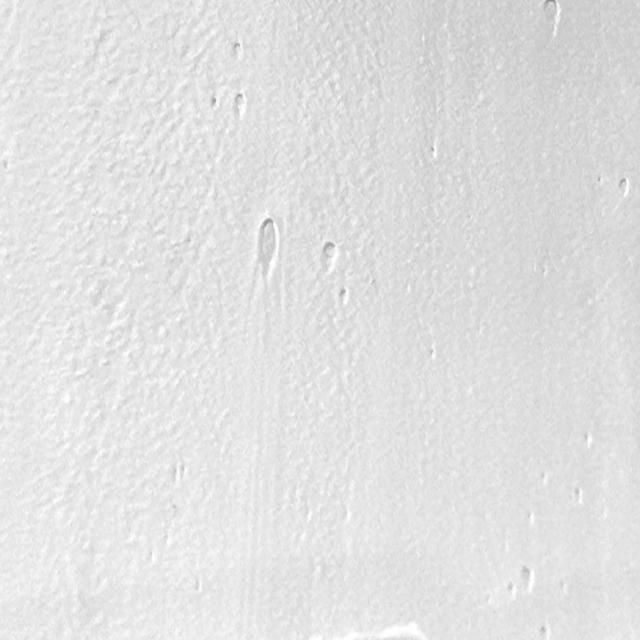pin holes: (252, 214, 285, 278), (377, 620, 426, 640), (538, 0, 564, 36), (317, 241, 339, 273), (231, 90, 249, 120), (519, 565, 538, 593), (616, 174, 632, 202), (230, 40, 246, 65), (579, 429, 596, 452), (570, 484, 586, 508), (336, 287, 351, 308), (427, 344, 440, 363), (538, 470, 552, 487), (538, 623, 553, 638), (208, 95, 221, 112), (506, 581, 518, 599), (524, 509, 536, 527), (594, 174, 604, 186)
